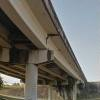Bridge: (4, 3, 91, 91)
